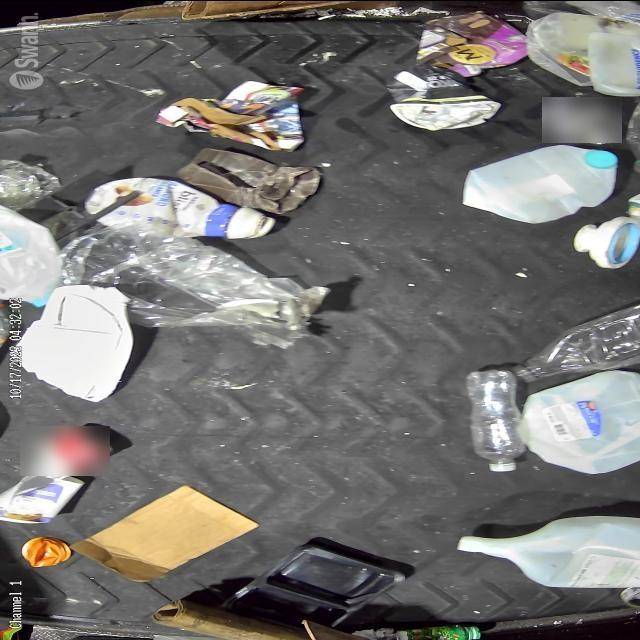milk_jug: (11, 284, 133, 402), (457, 515, 640, 587), (458, 144, 618, 222), (522, 368, 639, 470), (522, 9, 638, 91), (0, 199, 62, 308), (588, 19, 639, 96)
plastic_bottle: (516, 302, 640, 382), (462, 366, 530, 470)
